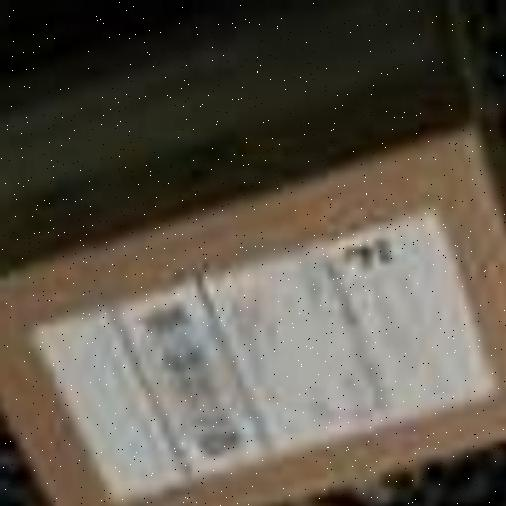Other: (0, 38, 504, 506)
